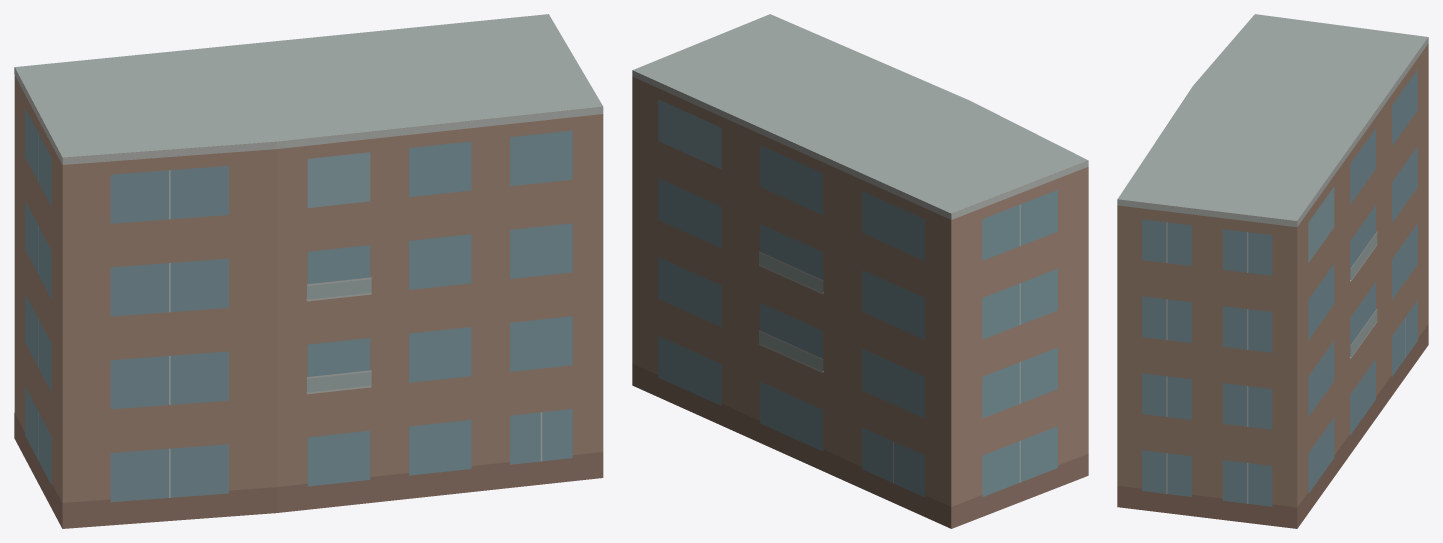
The model's file is survey-upis-32648248.glb.
3 views of the same model, side by side, from view 1: azimuth 30°, elevation 25°; view 2: azimuth 150°, elevation 25°; view 3: azimuth 270°, elevation 25° (orthographic). The views are drawn at different scales.
Parts seen in each view (by area): view 1: survey-upis-32648248.tmp; view 2: survey-upis-32648248.tmp; view 3: survey-upis-32648248.tmp.
Part boxes in pixels (x1,y1,x2,y2): survey-upis-32648248.tmp: (14, 14, 603, 528); survey-upis-32648248.tmp: (632, 14, 1088, 528); survey-upis-32648248.tmp: (1117, 14, 1428, 528).
Bounding box in the file's own units: 17.61 × 12.2 × 11.19.
